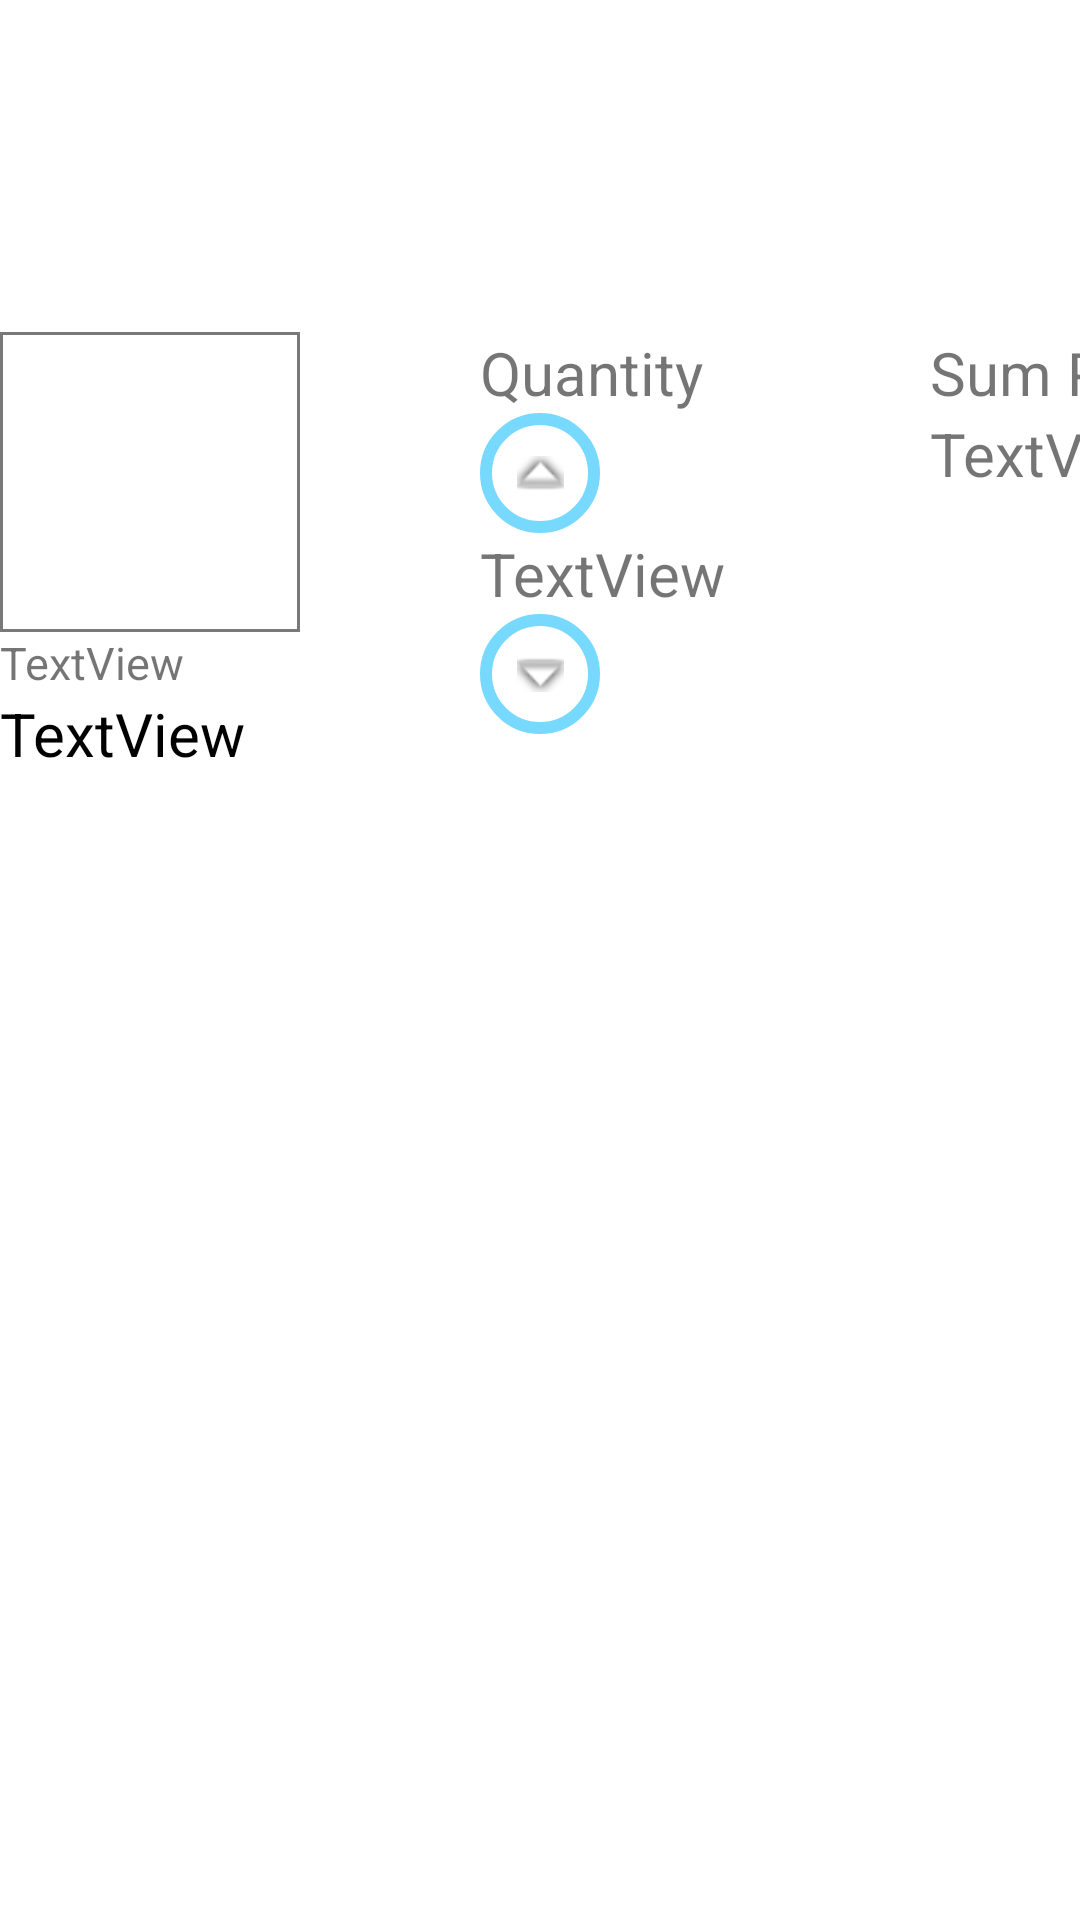

Icon click points for this 1080 × 1920 phone screenshot, format point (x, y):
arrow down float: point (540, 674)
arrow up float: point (540, 473)
